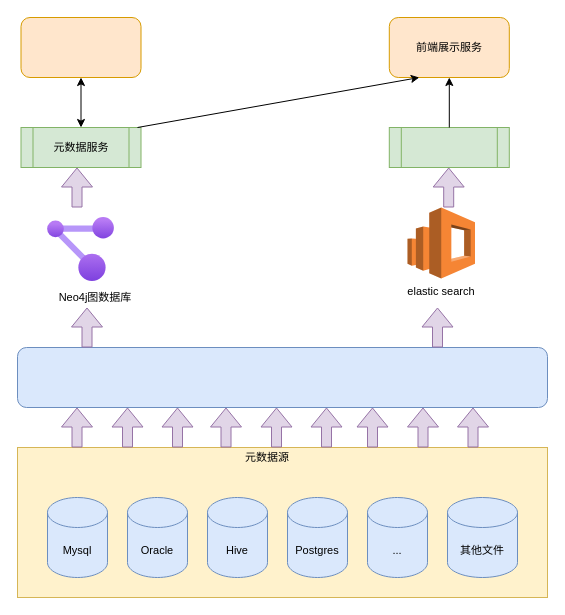
Image size: 565x615. Some labels were removed from this diagram. Here are the shapes that lost their labels. From the top down, the centre of each, then its label:
point (80, 47): 其他服务(例，权限管理..）
point (448, 147): 搜索服务
point (282, 377): 元数据爬虫/ETL体系
